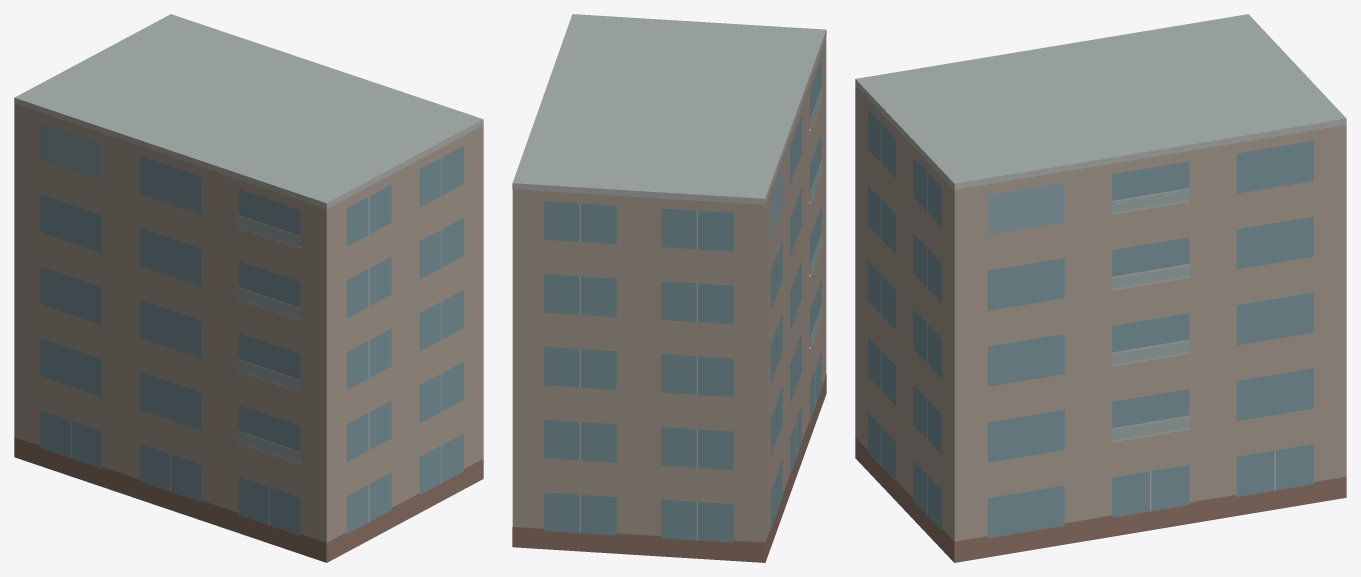
File: survey-upis-32751066.glb
The picture shows the model from 3 angles, left to right: view 1: azimuth 30°, elevation 25°; view 2: azimuth 150°, elevation 25°; view 3: azimuth 270°, elevation 25°; orthographic projection. The views are drawn at different scales.
Visible parts, largest first — view 1: survey-upis-32751066.tmp; view 2: survey-upis-32751066.tmp; view 3: survey-upis-32751066.tmp.
Boxes of the visible parts, left/top/right/bottom form: survey-upis-32751066.tmp: left=14, top=14, right=483, bottom=562; survey-upis-32751066.tmp: left=512, top=14, right=826, bottom=562; survey-upis-32751066.tmp: left=855, top=14, right=1346, bottom=562.
Size of the model in its own units: 14.03 by 14.6 by 17.16.
